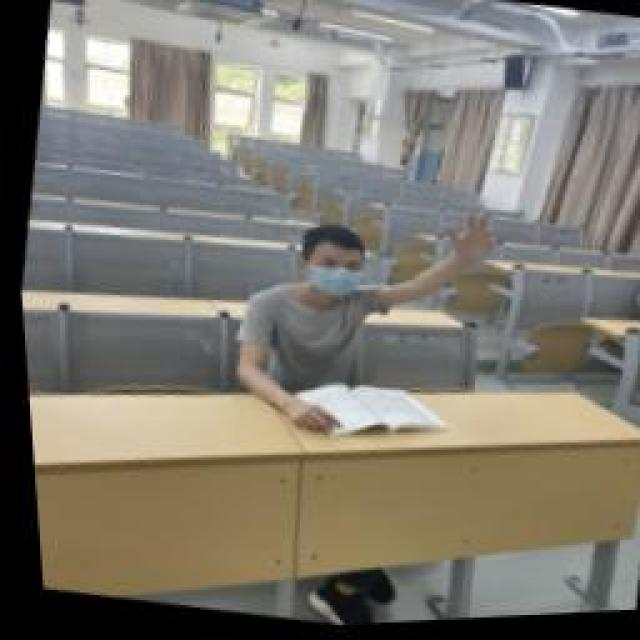study: (210, 180, 505, 465)
